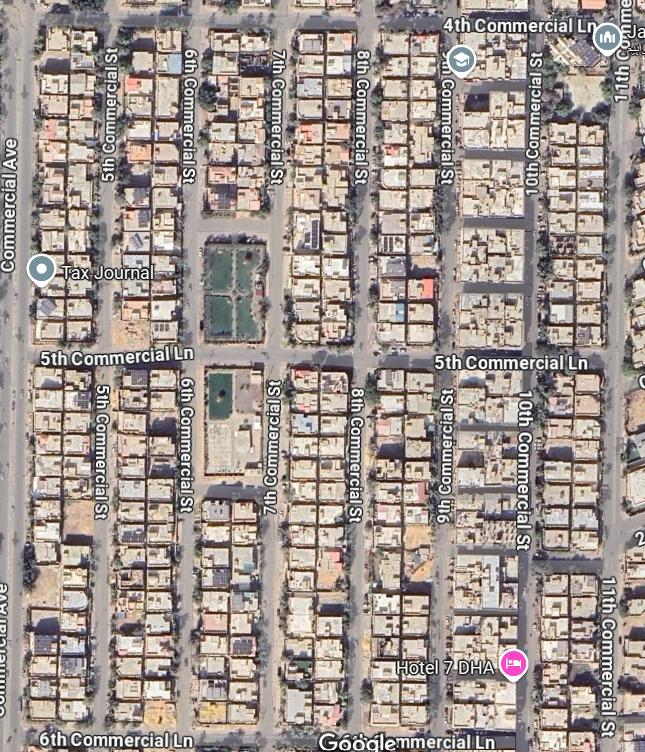Buildings: (23, 358, 103, 722), (456, 25, 532, 358), (112, 27, 186, 353), (196, 369, 263, 726), (287, 369, 351, 725), (32, 22, 103, 341), (286, 34, 356, 345), (372, 374, 433, 722), (114, 362, 174, 710), (376, 33, 436, 350), (450, 373, 533, 549), (543, 123, 607, 350), (203, 26, 271, 215), (451, 557, 520, 726), (540, 371, 600, 557), (540, 575, 603, 752), (202, 239, 266, 341)
